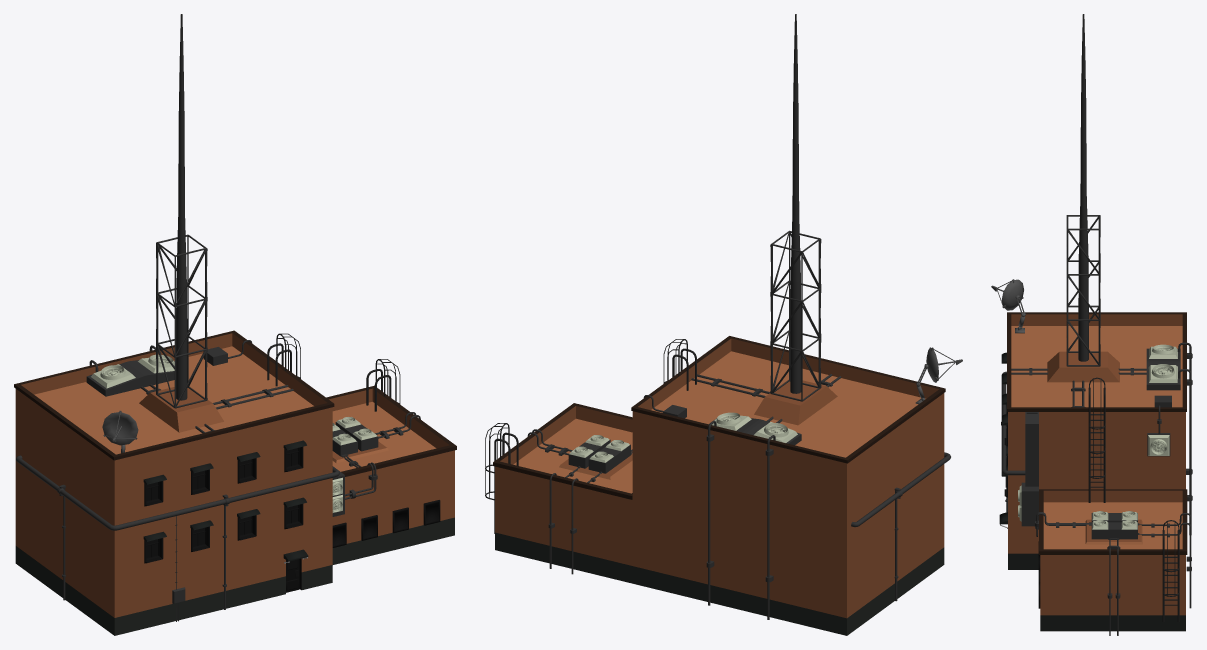
File: command-center.obj
3 renders of one model, left to right at view 1: azimuth 30°, elevation 25°; view 2: azimuth 150°, elevation 25°; view 3: azimuth 270°, elevation 25°, orthographic. The views are drawn at different scales.
Parts seen in each view (by area): view 1: Plane; view 2: Plane; view 3: Plane.
Part boxes in pixels (x1,y1,x2,y2): Plane: (14, 14, 456, 635); Plane: (485, 14, 962, 635); Plane: (991, 14, 1192, 635).
Size of the model in its own units: 24.78 by 34.8 by 12.44.
